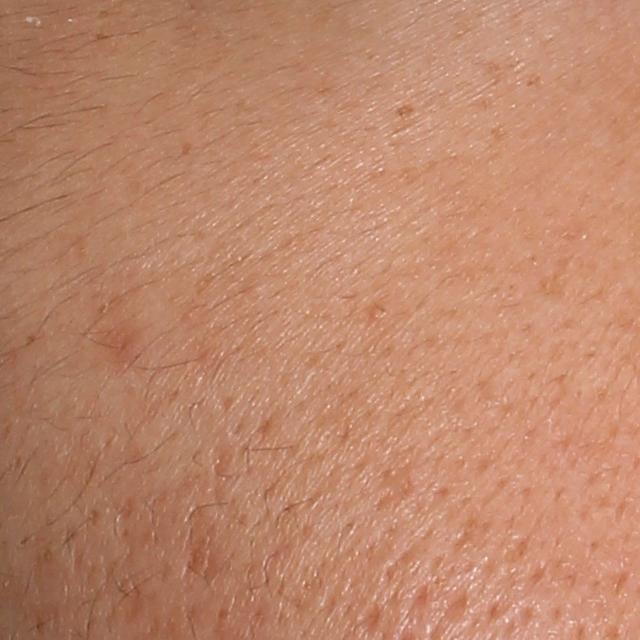atrophic_scar: (181, 506, 219, 588), (357, 600, 386, 637)
melasma: (392, 103, 417, 120)
